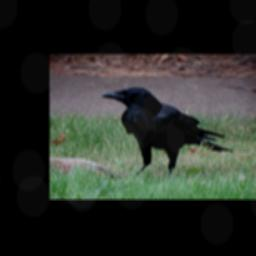Crow: (99, 86, 234, 177)
